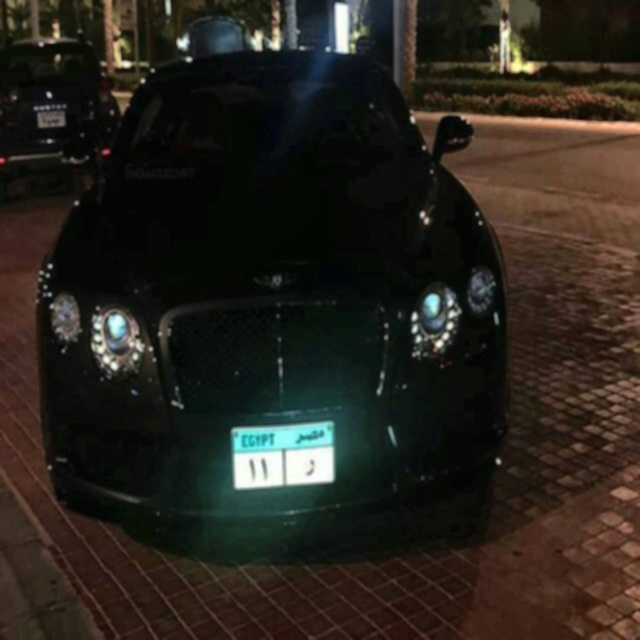License Plate: (229, 419, 338, 491)
